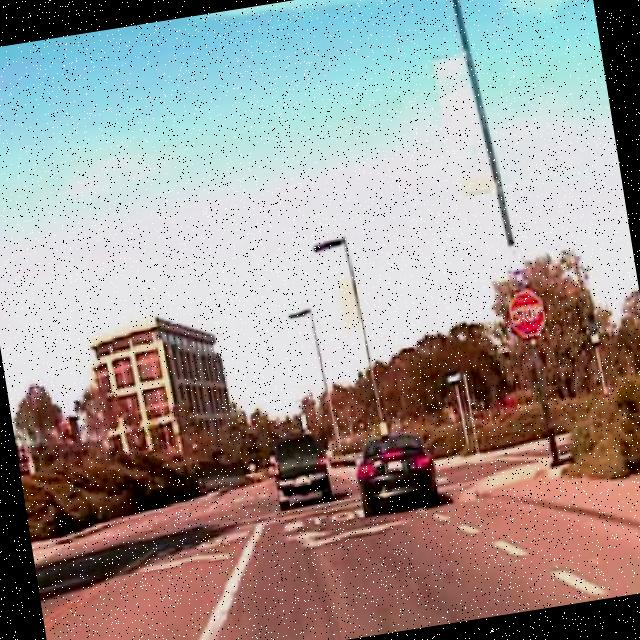Stop: (504, 285, 548, 341)
